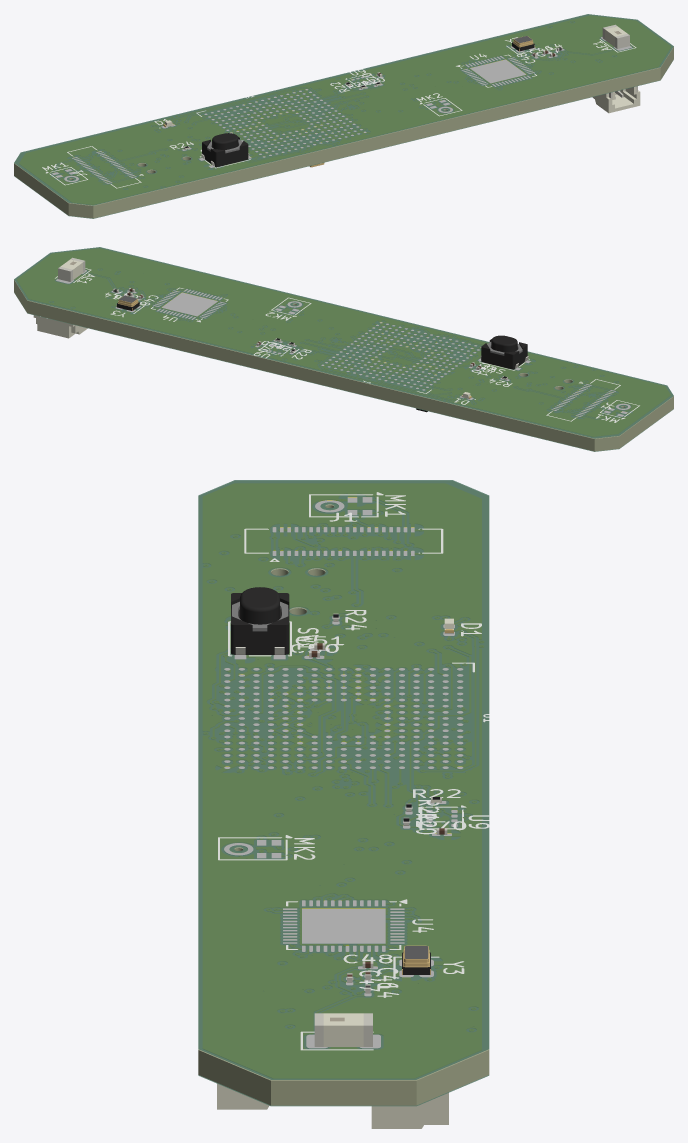
The model's file is mcu_board.glb.
3 renders of one model, top to bottom at view 1: azimuth 30°, elevation 25°; view 2: azimuth 150°, elevation 25°; view 3: azimuth 270°, elevation 25°, orthographic. The views are drawn at different scales.
Visible parts, largest first — view 1: =>[0:1:1:41], =>[0:1:1:36], =>[0:1:1:43], =>[0:1:1:37], =>[0:1:1:39], =>[0:1:1:15], =>[0:1:1:23], =>[0:1:1:42], =>[0:1:1:9]; view 2: =>[0:1:1:41], =>[0:1:1:36], =>[0:1:1:43], =>[0:1:1:37], =>[0:1:1:39], =>[0:1:1:15], =>[0:1:1:42], =>[0:1:1:33], =>[0:1:1:9]; view 3: =>[0:1:1:41], =>[0:1:1:36], =>[0:1:1:43], =>[0:1:1:37], =>[0:1:1:39], =>[0:1:1:15], =>[0:1:1:9], =>[0:1:1:33].
Part boxes in pixels (x1,y1,x2,y2): =>[0:1:1:41]: [14, 14, 673, 205]; =>[0:1:1:36]: [19, 16, 670, 204]; =>[0:1:1:43]: [14, 15, 673, 218]; =>[0:1:1:37]: [52, 37, 631, 183]; =>[0:1:1:39]: [42, 37, 636, 188]; =>[0:1:1:15]: [201, 133, 249, 167]; =>[0:1:1:23]: [592, 86, 640, 113]; =>[0:1:1:42]: [14, 60, 673, 218]; =>[0:1:1:9]: [602, 24, 629, 48]; =>[0:1:1:41]: [14, 247, 673, 438]; =>[0:1:1:36]: [17, 249, 669, 436]; =>[0:1:1:43]: [14, 248, 673, 451]; =>[0:1:1:37]: [56, 270, 630, 416]; =>[0:1:1:39]: [55, 268, 639, 422]; =>[0:1:1:15]: [480, 335, 528, 369]; =>[0:1:1:42]: [14, 293, 673, 451]; =>[0:1:1:33]: [33, 315, 87, 338]; =>[0:1:1:9]: [58, 257, 85, 281]; =>[0:1:1:41]: [198, 480, 489, 1079]; =>[0:1:1:36]: [203, 484, 483, 1077]; =>[0:1:1:43]: [198, 481, 489, 1105]; =>[0:1:1:37]: [224, 497, 463, 1048]; =>[0:1:1:39]: [218, 492, 489, 1050]; =>[0:1:1:15]: [231, 587, 289, 654]; =>[0:1:1:9]: [314, 1013, 372, 1046]; =>[0:1:1:33]: [371, 1092, 448, 1128].
Bounding box in the file's own units: 0.078 × 0.00714 × 0.016.
